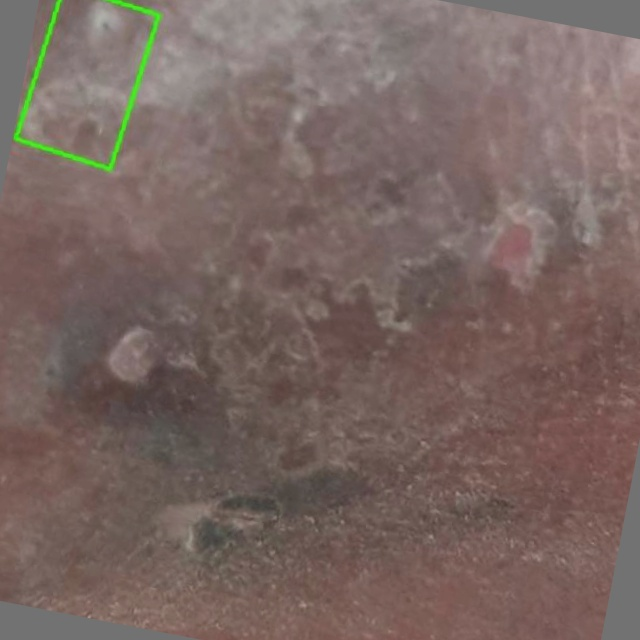Eczema: (14, 0, 158, 169)
